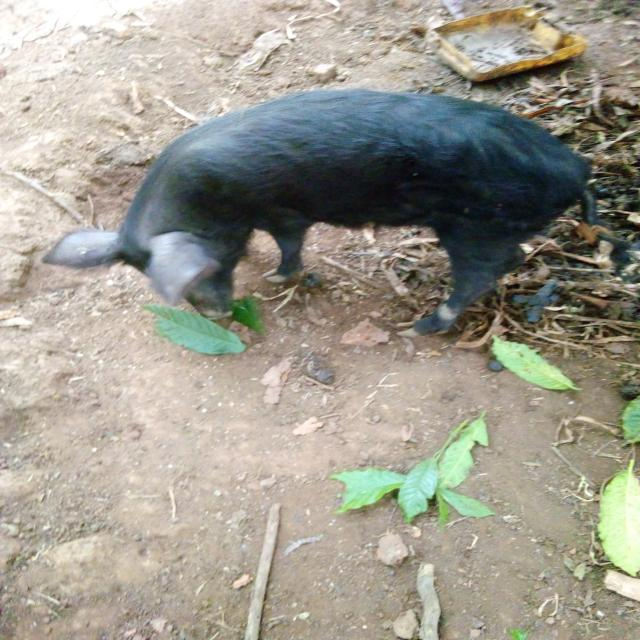pig: (21, 38, 640, 412)
